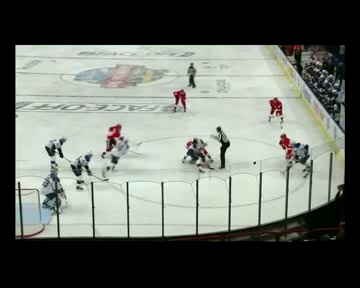normal: (44, 134, 96, 184), (96, 115, 135, 176), (182, 131, 215, 170), (263, 90, 290, 129), (169, 87, 191, 117)
